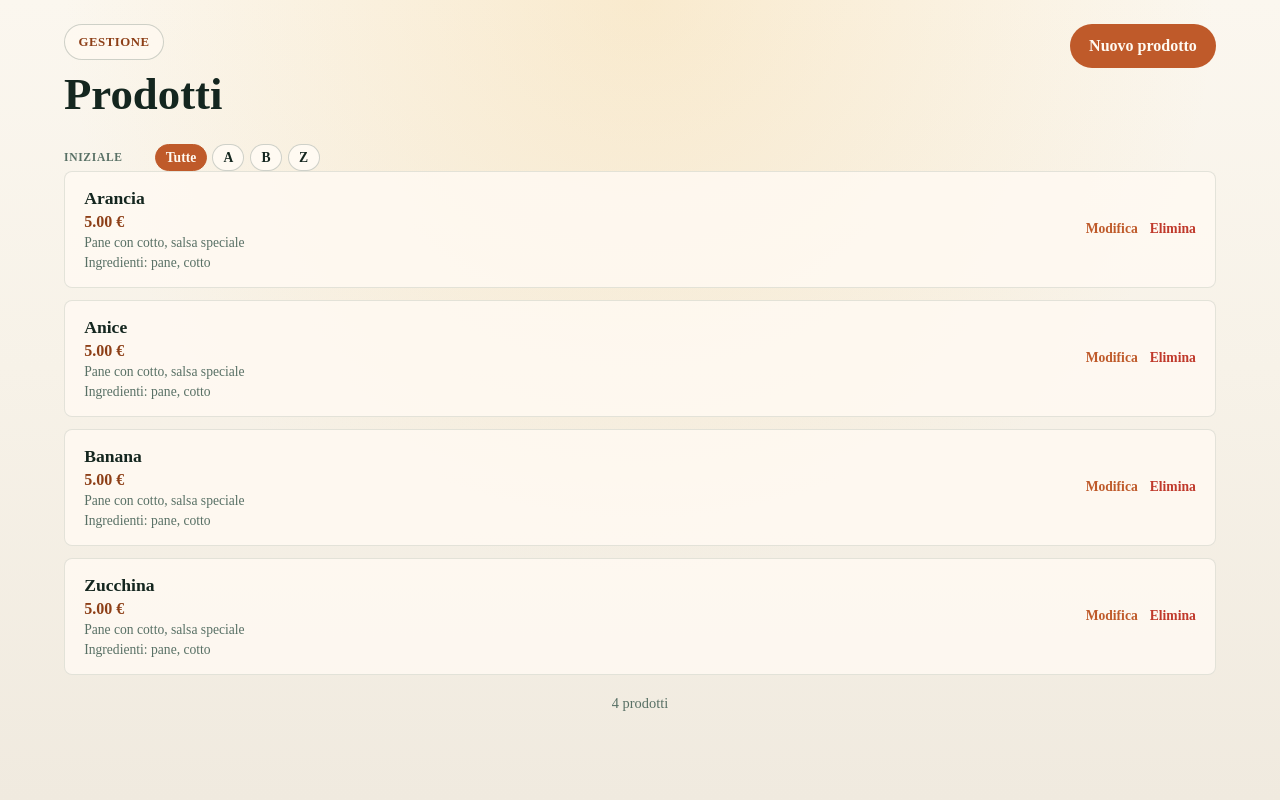
Test: catalogo prodotti — navigatore per iniziale › filtra sulla lettera scelta e «Tutte» azzera
Expected: the text "Arancia" is shown, [84, 188, 145, 208]
Click the button "B" at [266, 157], box [250, 144, 282, 171]
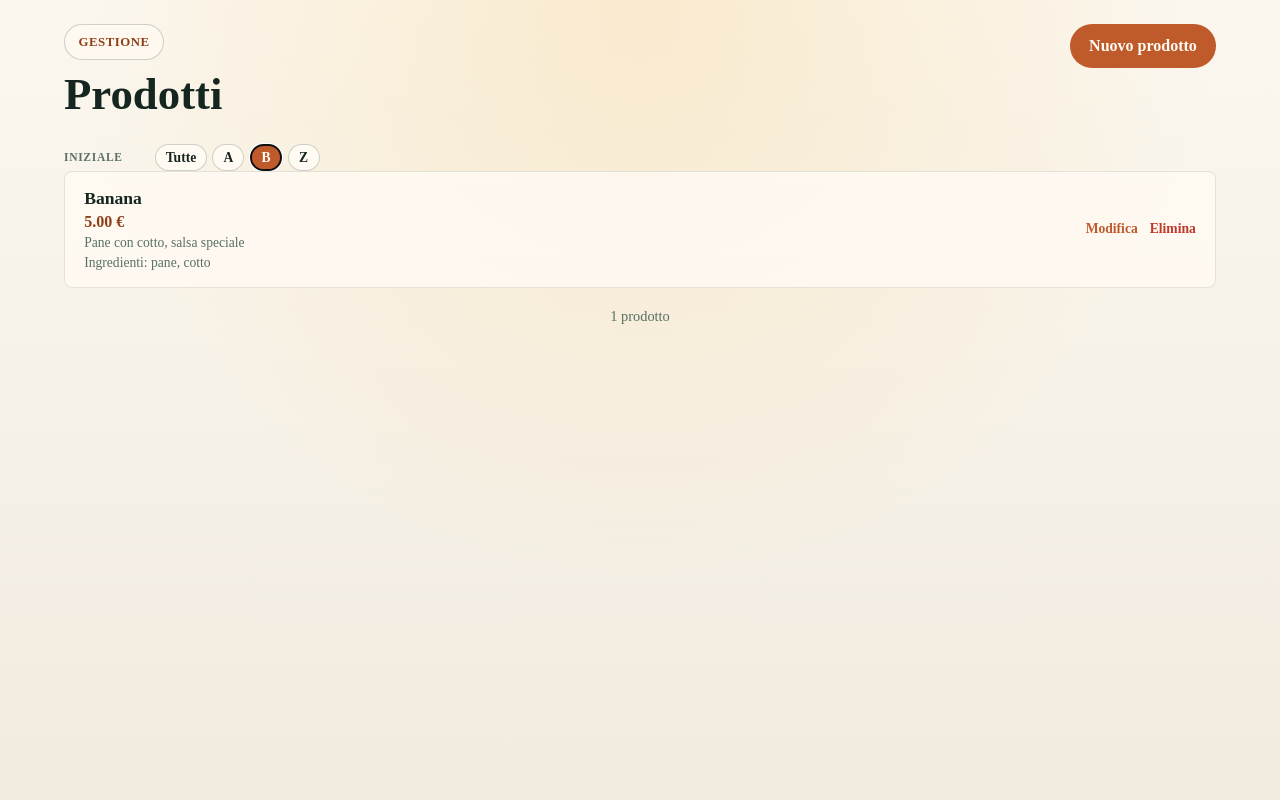
Now the text "Arancia" is gone
Now the text "Zucchina" is gone
Now the text "1 prodotto" is shown, box [610, 308, 670, 325]
Click the button "Tutte" at [181, 157], box [155, 144, 207, 171]
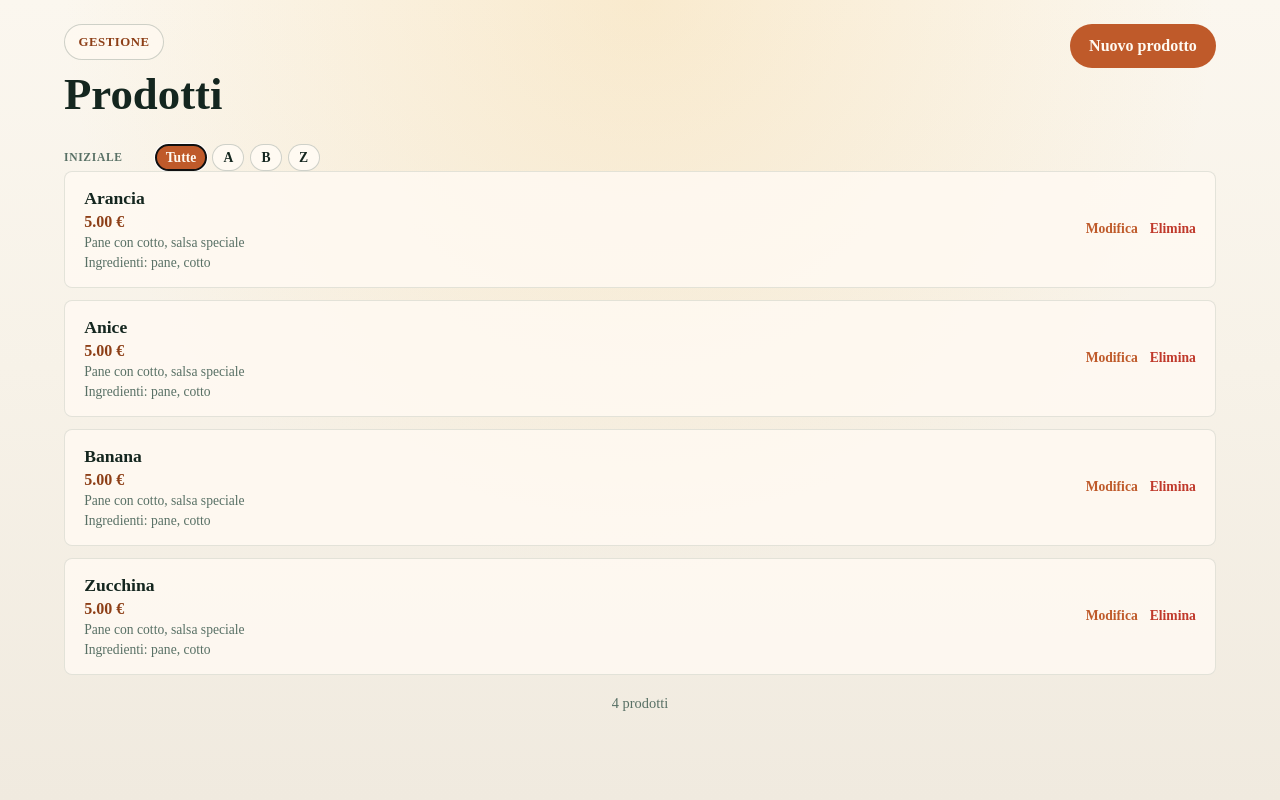
Now the text "Arancia" is shown, box [84, 188, 145, 208]
Now the text "Zucchina" is shown, box [84, 575, 155, 595]
